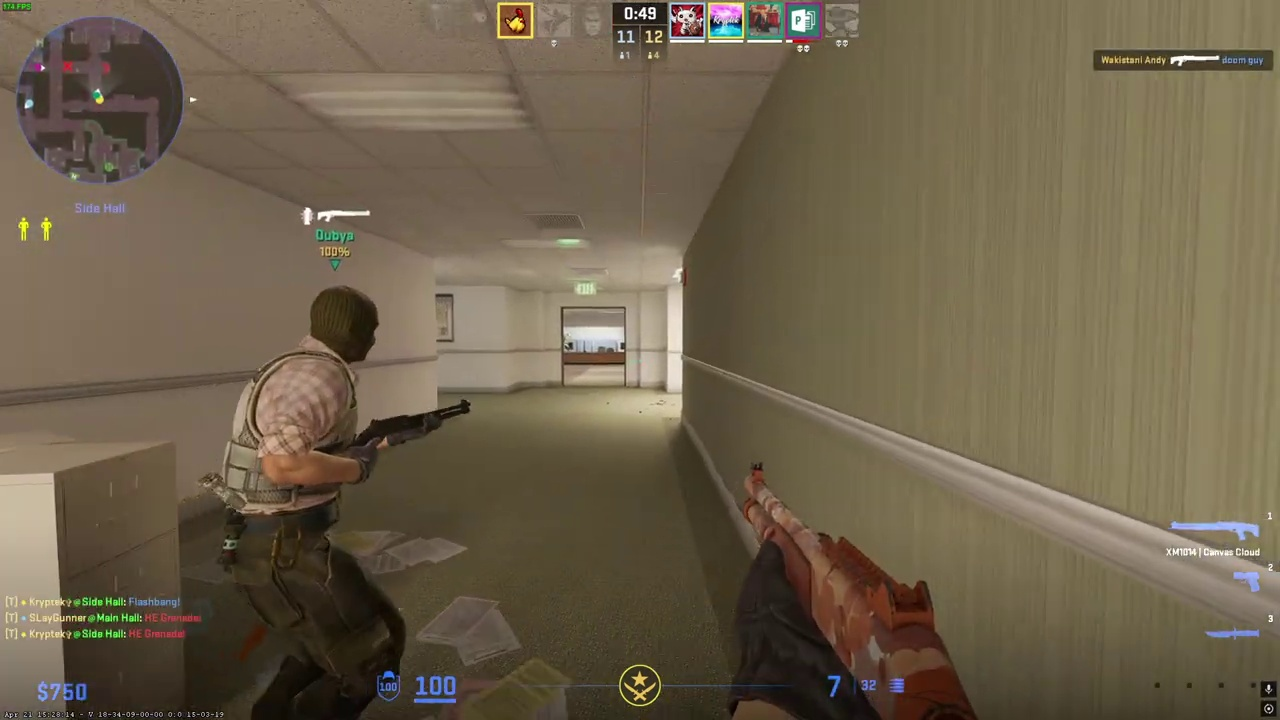Terrorist: (217, 285, 407, 719)
